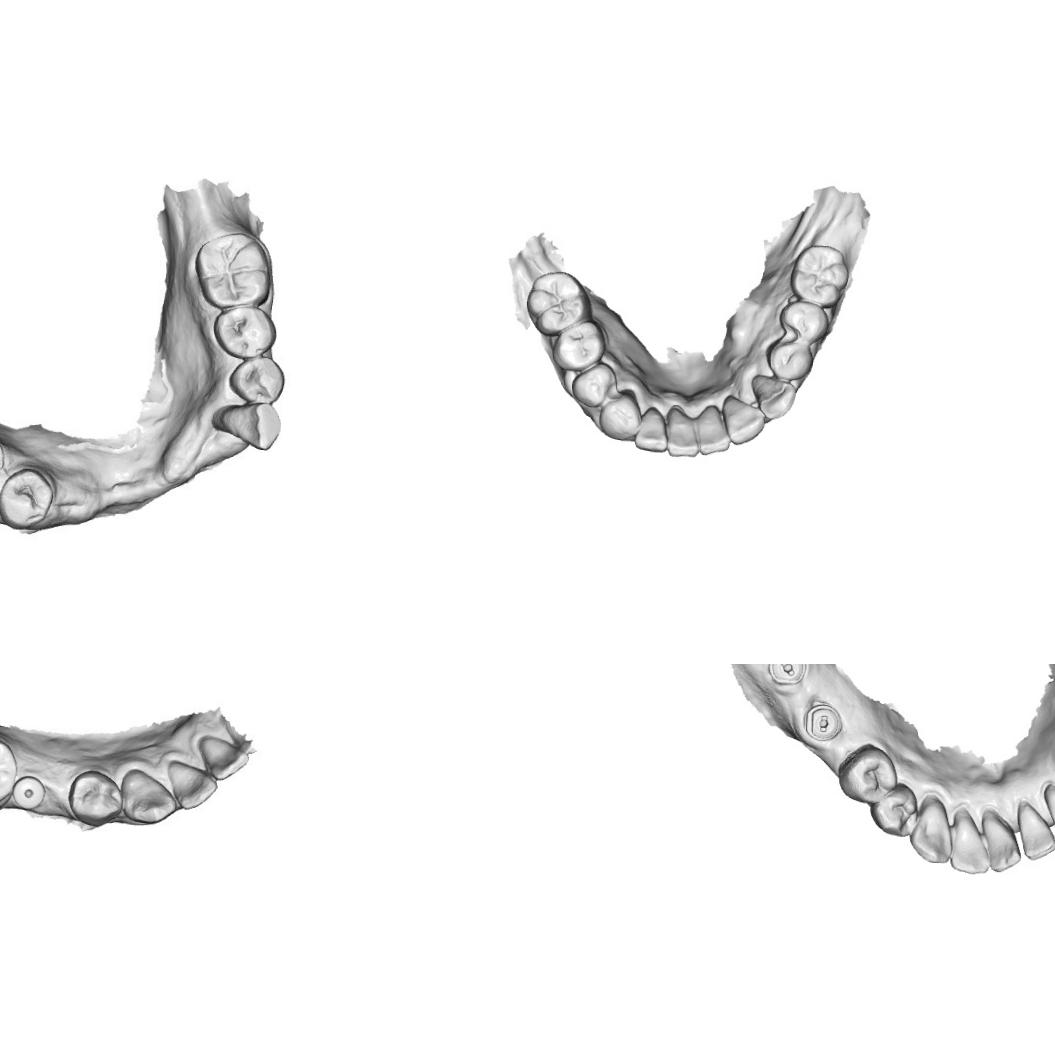canine: (118, 766, 182, 828), (214, 398, 283, 453), (908, 796, 954, 867), (747, 373, 798, 424), (596, 390, 644, 442)
implant: (13, 777, 45, 814)
implant_minus: (802, 701, 846, 744), (764, 664, 809, 688)
incisor: (948, 807, 994, 878), (979, 808, 1024, 874), (191, 734, 251, 782), (166, 758, 216, 810), (720, 394, 767, 448), (1014, 801, 1055, 862), (664, 404, 700, 459), (696, 402, 732, 457), (632, 404, 669, 455), (1041, 782, 1055, 846)
molar: (193, 227, 272, 312), (524, 269, 593, 339), (788, 242, 850, 310), (0, 732, 20, 810)
premolar: (834, 742, 901, 807), (209, 300, 280, 360), (0, 463, 59, 534), (64, 764, 124, 830), (551, 318, 608, 372), (870, 779, 921, 839), (229, 355, 288, 405), (774, 297, 832, 346), (569, 361, 617, 412), (762, 338, 814, 385)
